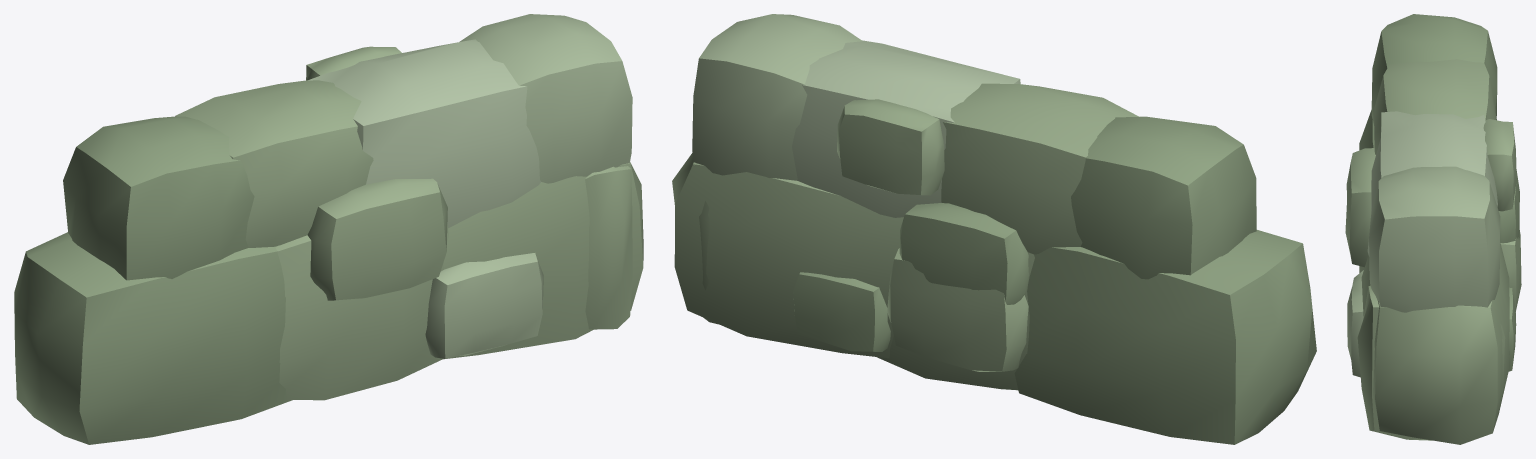
File: fagyal-soveny2-4m.glb
3 renders of one model, left to right at view 1: azimuth 30°, elevation 25°; view 2: azimuth 150°, elevation 25°; view 3: azimuth 270°, elevation 25°, orthographic. The views are drawn at different scales.
Visible parts, largest first — view 1: blokk-also-1, blokk-felso-3, blokk-felso-1, blokk-felso-2, blokk-felso-4, blokk-also-2, blokk-also-3, dudor-1, dudor-5, blokk-also-4, dudor-6; view 2: blokk-also-1, blokk-also-3, blokk-felso-1, blokk-felso-2, blokk-felso-4, blokk-felso-3, dudor-4, dudor-3, dudor-6, dudor-2, blokk-also-2, blokk-also-4; view 3: blokk-also-3, blokk-felso-4, blokk-felso-3, blokk-felso-2, blokk-felso-1, dudor-1, blokk-also-4, dudor-6, dudor-5, dudor-4, dudor-3, dudor-2 (+1 smaller).
Boxes of the visible parts, bbox=[...] form: blokk-also-1: bbox=[14, 232, 292, 444]; blokk-felso-3: bbox=[307, 39, 540, 228]; blokk-felso-1: bbox=[63, 116, 254, 280]; blokk-felso-2: bbox=[175, 80, 373, 247]; blokk-felso-4: bbox=[459, 14, 632, 183]; blokk-also-2: bbox=[275, 224, 448, 400]; blokk-also-3: bbox=[443, 162, 643, 359]; dudor-1: bbox=[307, 178, 447, 300]; dudor-5: bbox=[425, 253, 543, 358]; blokk-also-4: bbox=[585, 166, 632, 329]; dudor-6: bbox=[306, 46, 401, 80]; blokk-also-1: bbox=[1014, 230, 1316, 444]; blokk-also-3: bbox=[672, 153, 903, 358]; blokk-felso-1: bbox=[1071, 116, 1256, 279]; blokk-felso-2: bbox=[941, 83, 1139, 254]; blokk-felso-4: bbox=[692, 14, 862, 180]; blokk-felso-3: bbox=[792, 40, 1020, 217]; dudor-4: bbox=[887, 248, 1028, 371]; dudor-3: bbox=[899, 203, 1028, 304]; dudor-6: bbox=[837, 99, 944, 195]; dudor-2: bbox=[793, 272, 890, 351]; blokk-also-2: bbox=[877, 252, 1034, 390]; blokk-also-4: bbox=[694, 165, 718, 324]; blokk-also-3: bbox=[1361, 241, 1509, 444]; blokk-felso-4: bbox=[1369, 166, 1500, 312]; blokk-felso-3: bbox=[1367, 111, 1497, 256]; blokk-felso-2: bbox=[1374, 59, 1495, 154]; blokk-felso-1: bbox=[1371, 14, 1497, 125]; dudor-1: bbox=[1345, 148, 1375, 267]; blokk-also-4: bbox=[1357, 285, 1505, 440]; dudor-6: bbox=[1483, 119, 1516, 211]; dudor-5: bbox=[1347, 270, 1363, 377]; dudor-4: bbox=[1500, 230, 1521, 311]; dudor-3: bbox=[1498, 171, 1519, 243]; dudor-2: bbox=[1508, 287, 1516, 371].
Size of the model in its own units: 4.54 by 2.09 by 1.34.
